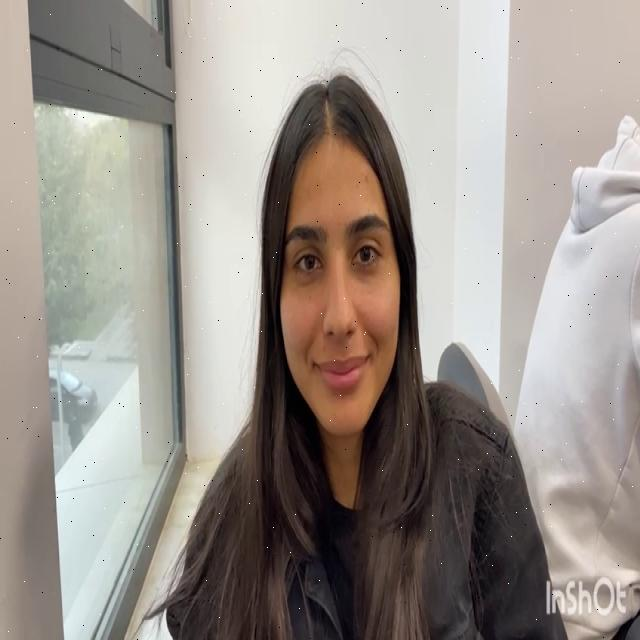happy: (277, 138, 409, 441)
